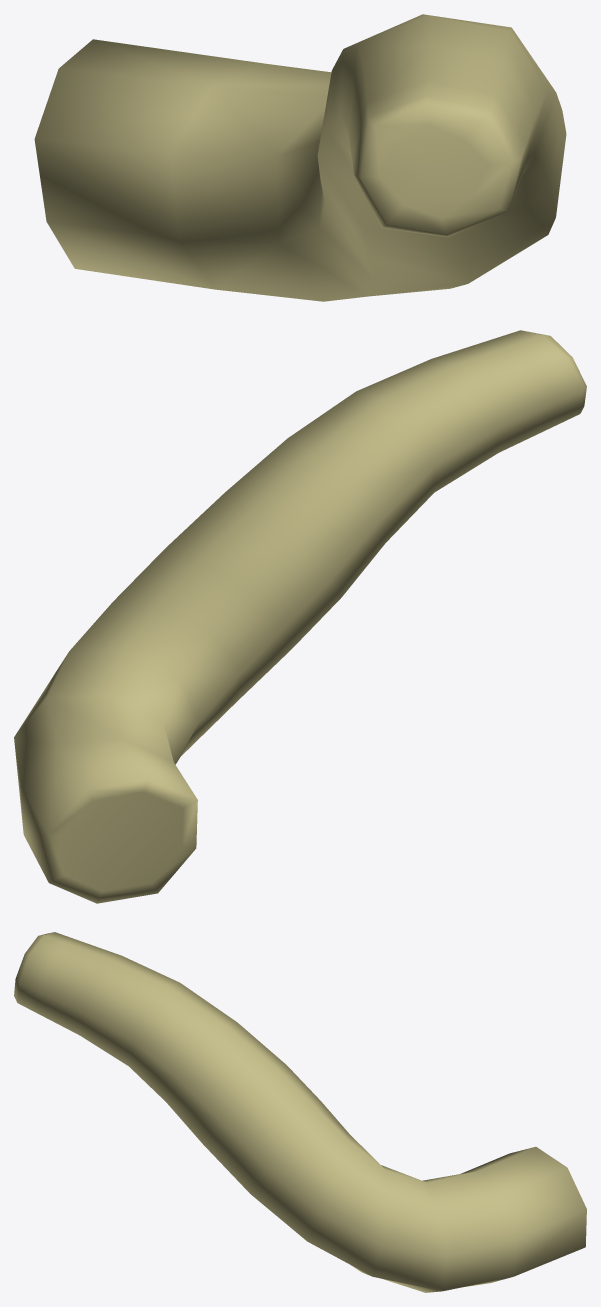
File: Nerves_L3.FBX
3 renders of one model, top to bottom at view 1: azimuth 30°, elevation 25°; view 2: azimuth 150°, elevation 25°; view 3: azimuth 270°, elevation 25°, orthographic. The views are drawn at different scales.
Parts seen in each view (by area): view 1: Nerves_L3; view 2: Nerves_L3; view 3: Nerves_L3.
Part boxes in pixels (x1=…): Nerves_L3: x1=34, y1=14, x2=566, y2=301; Nerves_L3: x1=14, y1=330, x2=586, y2=903; Nerves_L3: x1=14, y1=932, x2=586, y2=1292.
Size of the model in its own units: 0.004 by 0.00424 by 0.00789.
